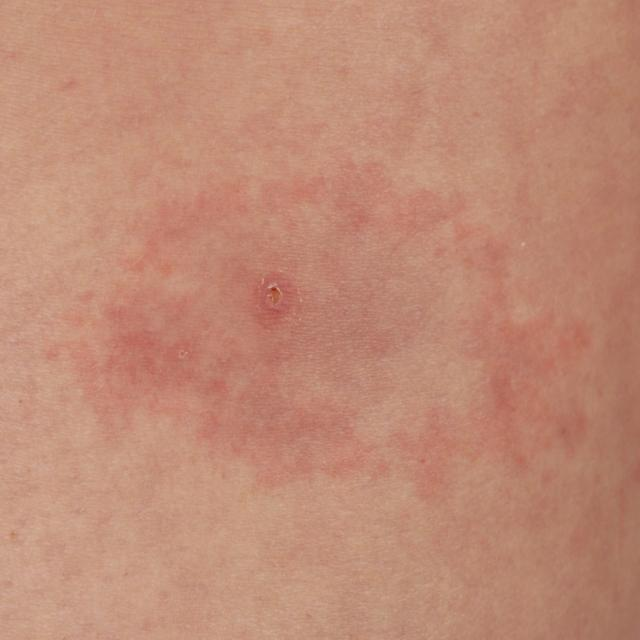Erythema chronicum migrans: (86, 126, 576, 488)
